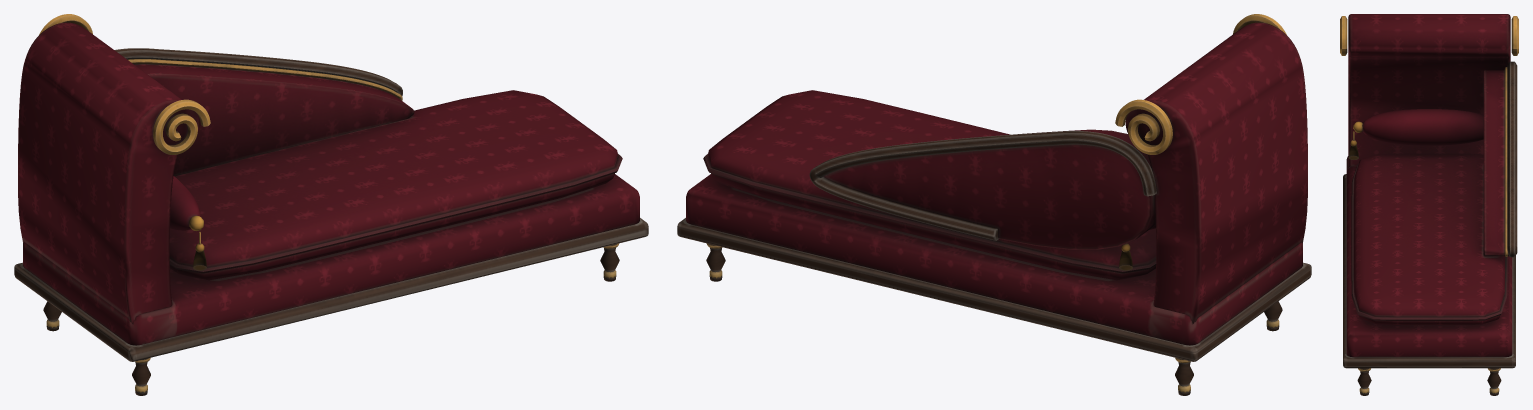
Rendered from ChaiseLongue.fbx.
3 renders of one model, left to right at view 1: azimuth 30°, elevation 25°; view 2: azimuth 150°, elevation 25°; view 3: azimuth 270°, elevation 25°, orthographic. The views are drawn at different scales.
Visible parts, largest first — view 1: ChaiseLongue; view 2: ChaiseLongue; view 3: ChaiseLongue.
Part boxes in pixels (box(x1,y1,x2,y2)): ChaiseLongue: box(14, 14, 648, 395); ChaiseLongue: box(677, 14, 1311, 395); ChaiseLongue: box(1340, 14, 1518, 395).
Bounding box in the file's own units: 610 × 334 × 248.
